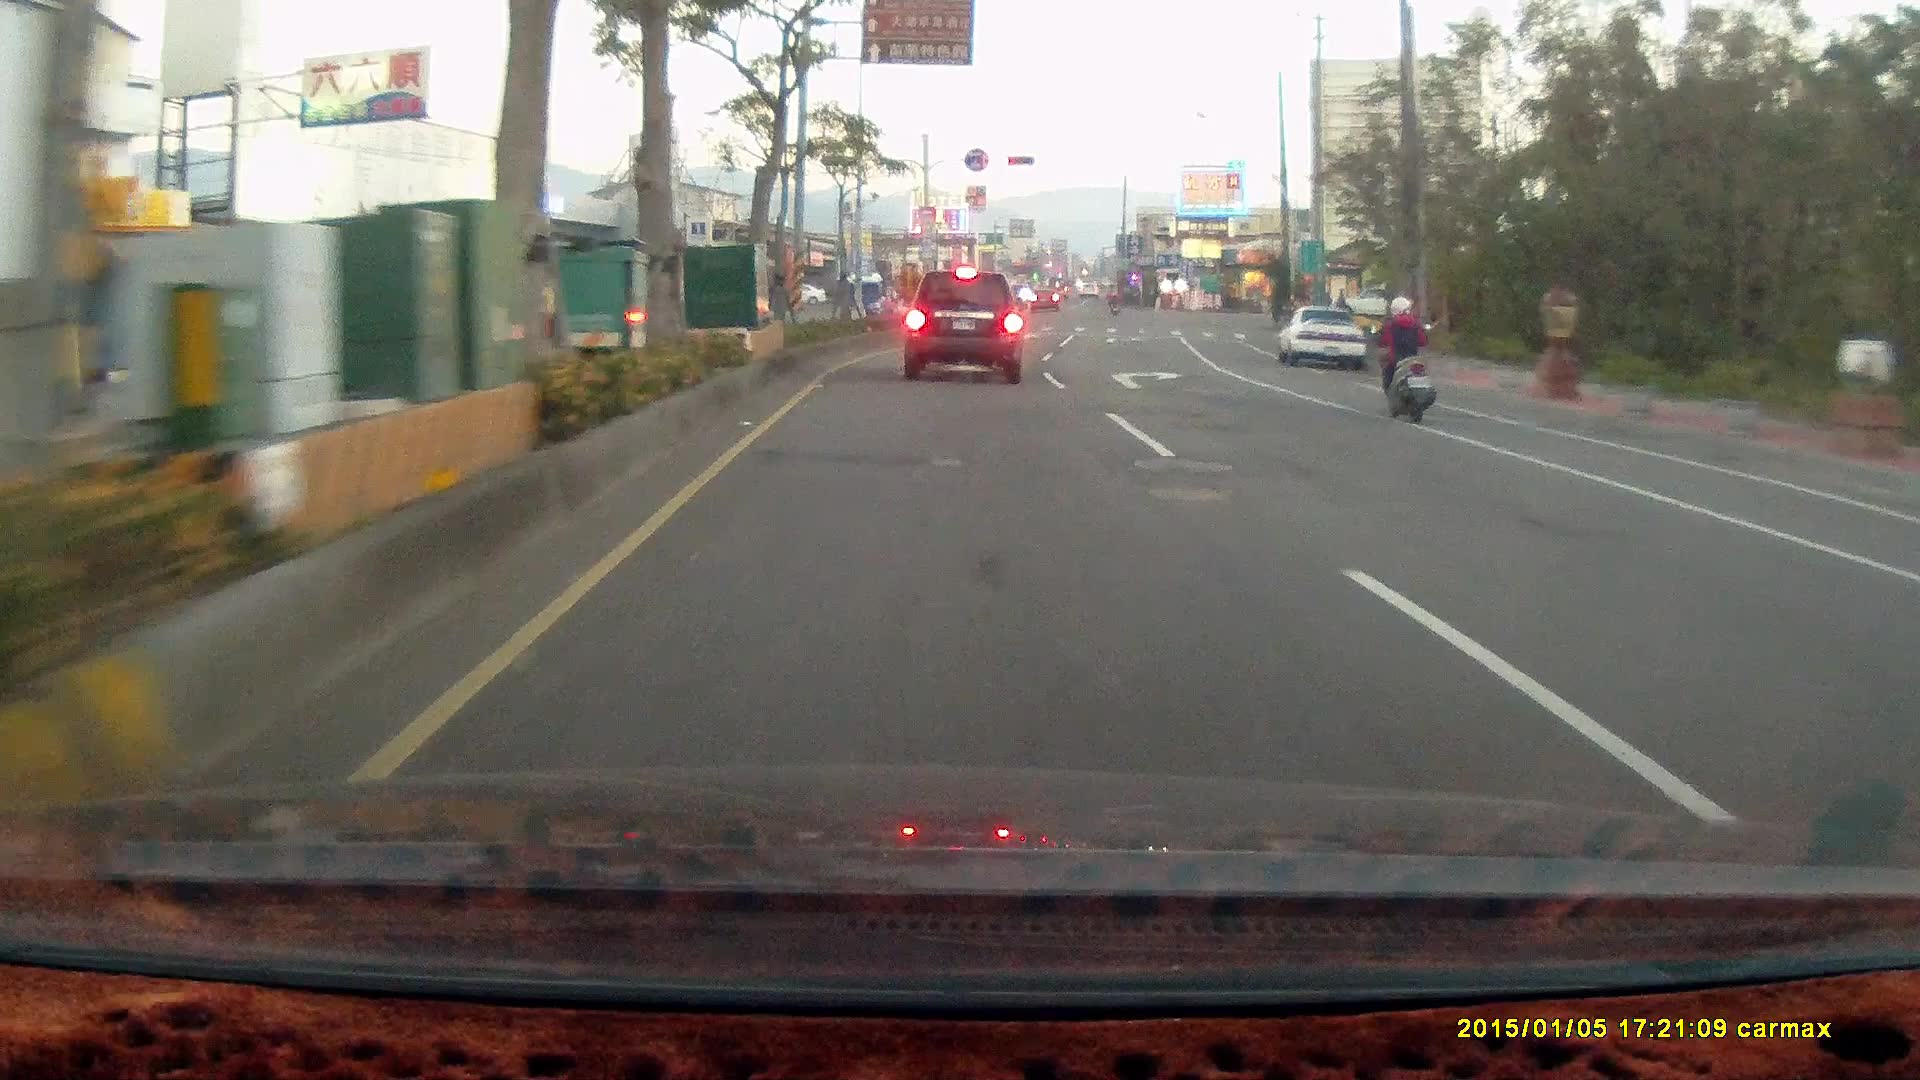rider: (1365, 289, 1436, 422)
vehicle: (901, 269, 1021, 383), (1896, 493, 1920, 836), (1273, 301, 1367, 369), (1883, 528, 1920, 690), (1279, 305, 1367, 371), (1323, 284, 1402, 320)
